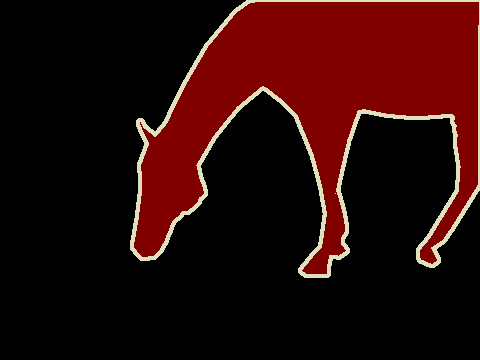horse: (128, 1, 480, 278)
